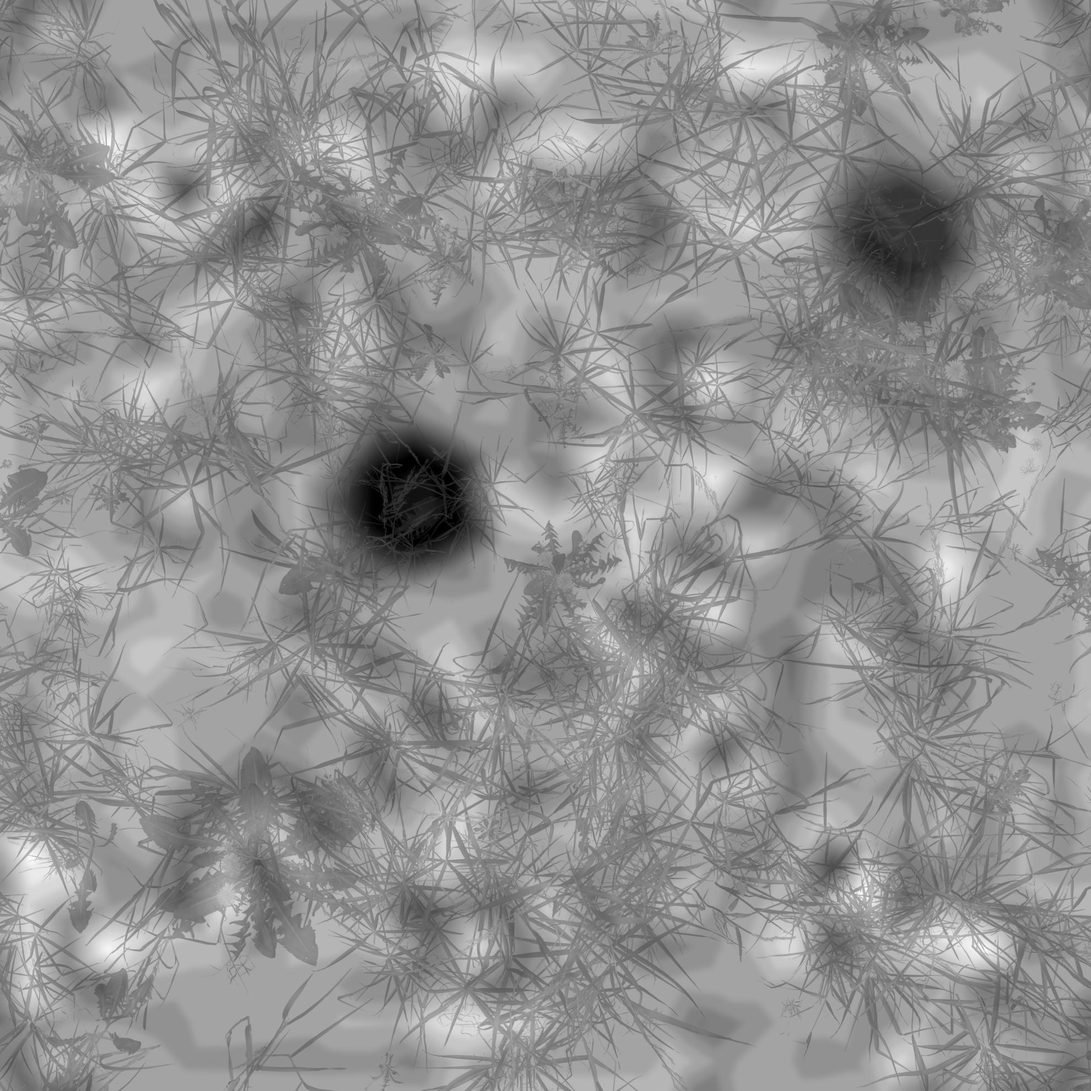landmine: (333, 433, 491, 580), (823, 161, 971, 300)
